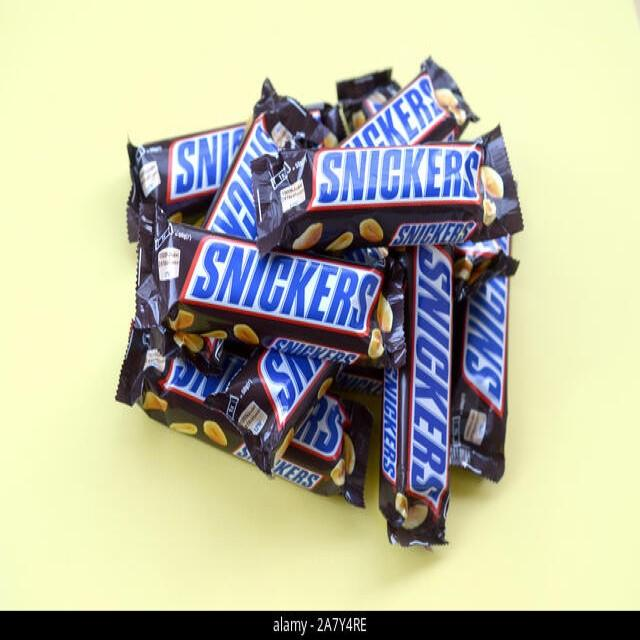snickers_chocolate: (128, 336, 410, 472), (186, 232, 386, 362), (293, 75, 452, 215), (214, 87, 284, 300), (463, 223, 527, 455), (405, 247, 458, 508), (307, 143, 488, 210)
